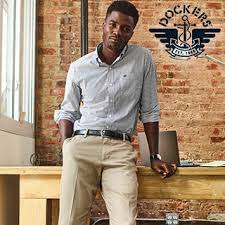F_belt: (67, 124, 138, 149)
F_shirt: (59, 46, 163, 134)
